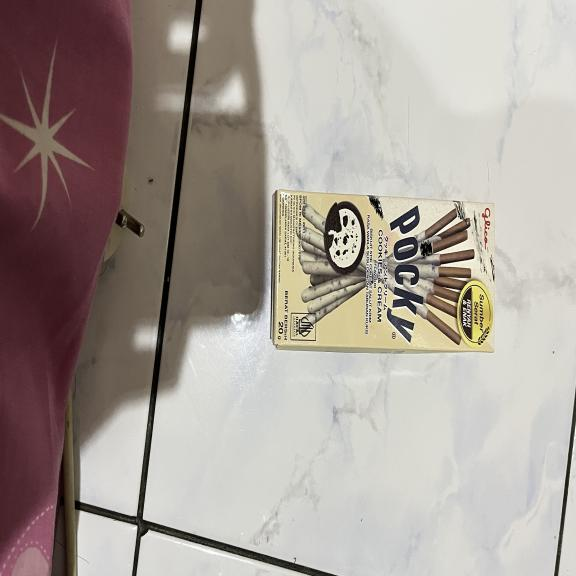Kertas: (272, 186, 499, 356)
